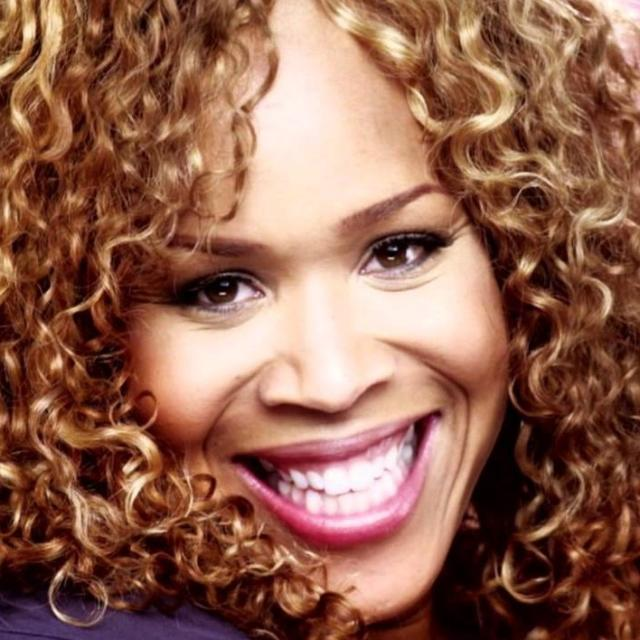Normal: (90, 0, 512, 622)
